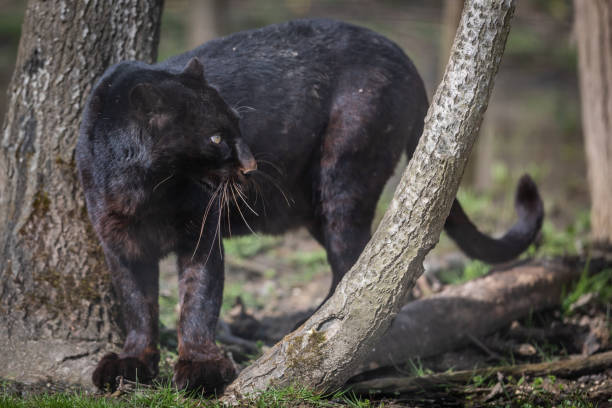panther: (116, 53, 294, 231)
